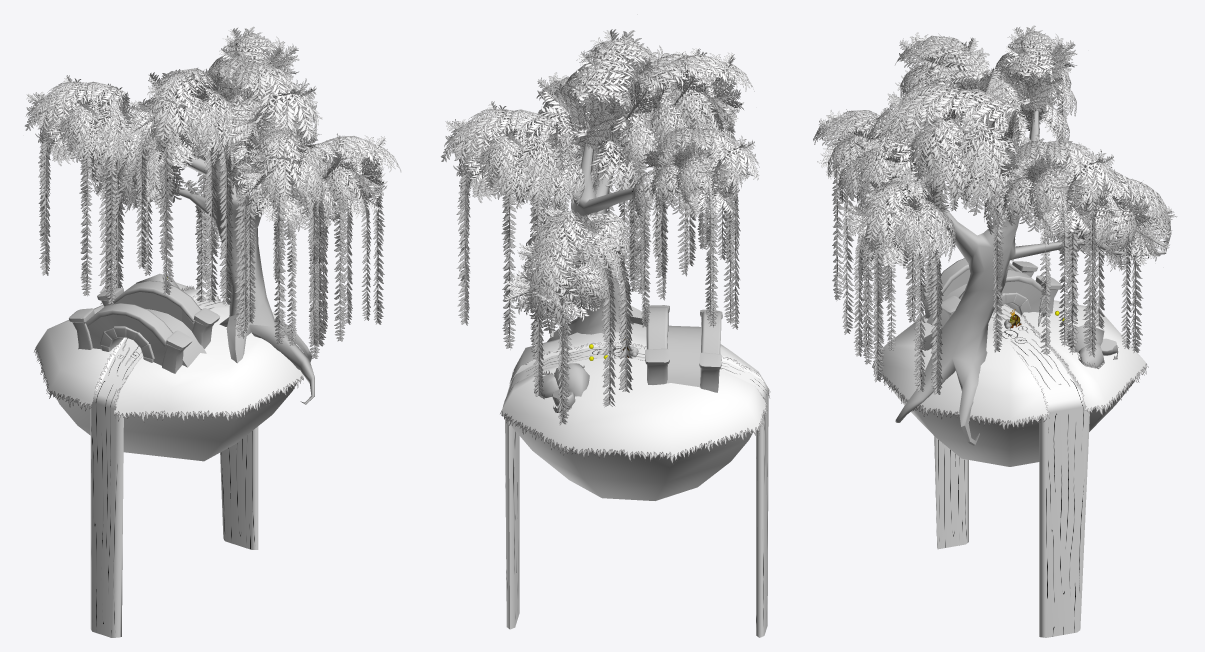
Rendered from IlluminateIslandBlockout.fbx.
The picture shows the model from 3 angles, left to right: view 1: azimuth 30°, elevation 25°; view 2: azimuth 150°, elevation 25°; view 3: azimuth 270°, elevation 25°; orthographic projection. The views are drawn at different scales.
Parts seen in each view (by area): view 1: vine1, IslandGrassTest, Waterfall, bridge, cliffstone, willowTree_uvs, grasslayers; view 2: vine1, IslandGrassTest, cliffstone, Waterfall, bridge, willowTree_uvs, grasslayers, Rock_01_b, polySurface29; view 3: vine1, Waterfall, IslandGrassTest, willowTree_uvs, cliffstone, bridge, grasslayers.
Boxes of the visible parts, x1,y1,x2,y2 form: vine1: (25, 26, 401, 358); IslandGrassTest: (34, 289, 303, 418); Waterfall: (90, 297, 258, 637); bridge: (69, 281, 220, 373); cliffstone: (55, 383, 296, 461); willowTree_uvs: (95, 96, 345, 404); grasslayers: (35, 351, 302, 422); vine1: (441, 29, 759, 424); IslandGrassTest: (500, 323, 770, 459); cliffstone: (508, 370, 752, 500); Waterfall: (505, 344, 768, 637); bridge: (645, 305, 722, 392); willowTree_uvs: (501, 98, 702, 341); grasslayers: (501, 390, 769, 463); Rock_01_b: (554, 363, 589, 396); polySurface29: (513, 342, 763, 381); vine1: (813, 25, 1177, 394); Waterfall: (934, 304, 1089, 637); IslandGrassTest: (872, 300, 1148, 427); willowTree_uvs: (857, 110, 1166, 445); cliffstone: (882, 376, 1134, 466); bridge: (915, 258, 1061, 328); grasslayers: (873, 365, 1146, 430).
Bounding box in the file's own units: 728 × 1277 × 816.
